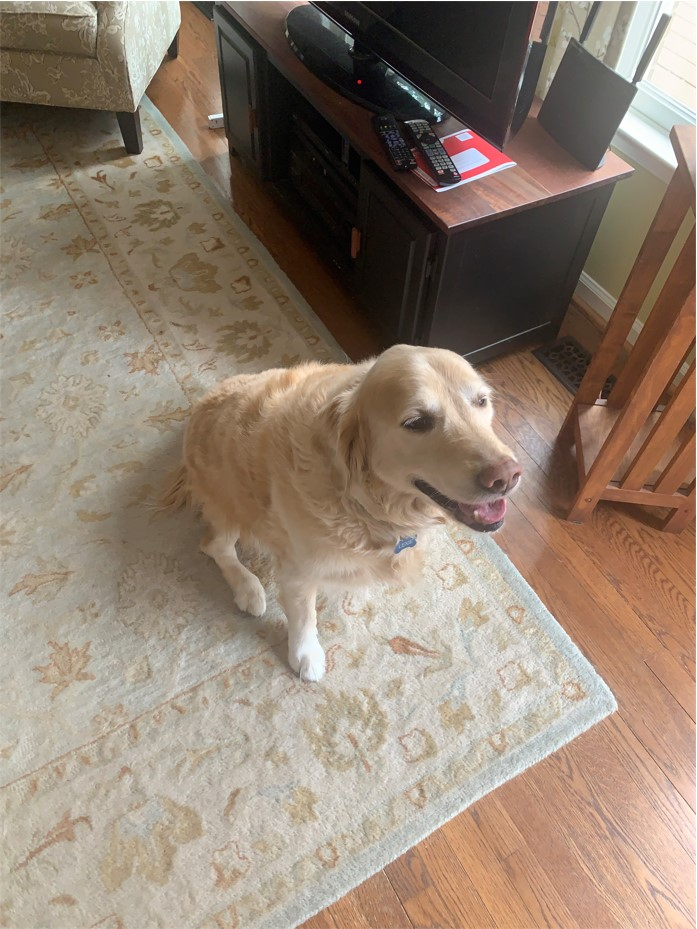bella: (338, 342, 524, 535)
